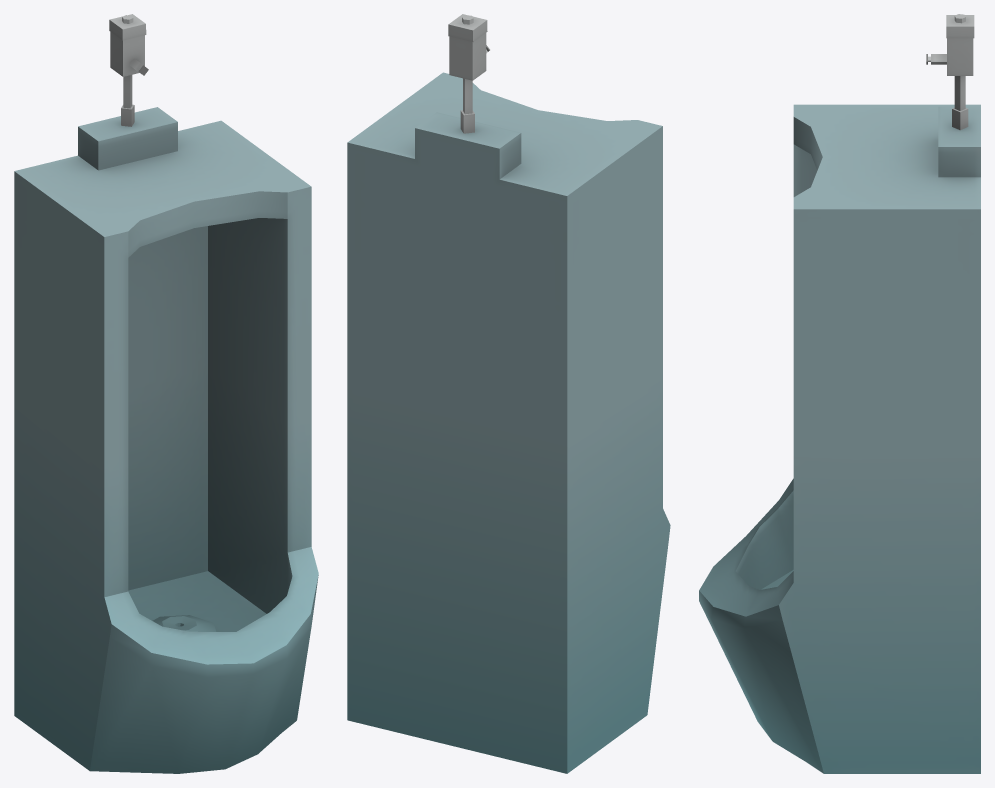
Rendered from sb_obj_ModernCity081_toilet_a.fbx.
3 views of the same model, side by side, from view 1: azimuth 30°, elevation 25°; view 2: azimuth 150°, elevation 25°; view 3: azimuth 270°, elevation 25° (orthographic). The views are drawn at different scales.
Visible parts, largest first — view 1: sb_obj_ModernCity081_toilet_a; view 2: sb_obj_ModernCity081_toilet_a; view 3: sb_obj_ModernCity081_toilet_a.
Part boxes in pixels (bbox=[...]): sb_obj_ModernCity081_toilet_a: bbox=[14, 14, 318, 773]; sb_obj_ModernCity081_toilet_a: bbox=[347, 14, 670, 773]; sb_obj_ModernCity081_toilet_a: bbox=[699, 14, 980, 773].
Size of the model in its own units: 0.3611 by 1.13 by 0.4104.
Materials: 1 (1 with a texture image).
